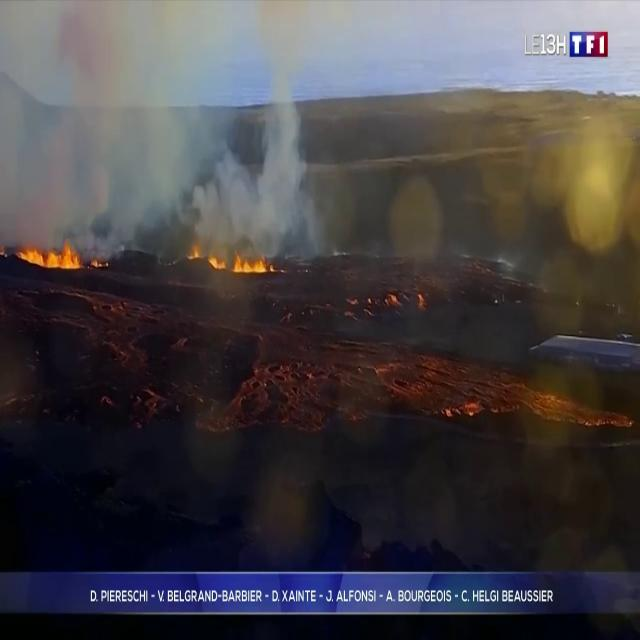Fire: (12, 229, 90, 277), (193, 242, 278, 280)
Smoke: (0, 6, 326, 244), (183, 35, 325, 257)
